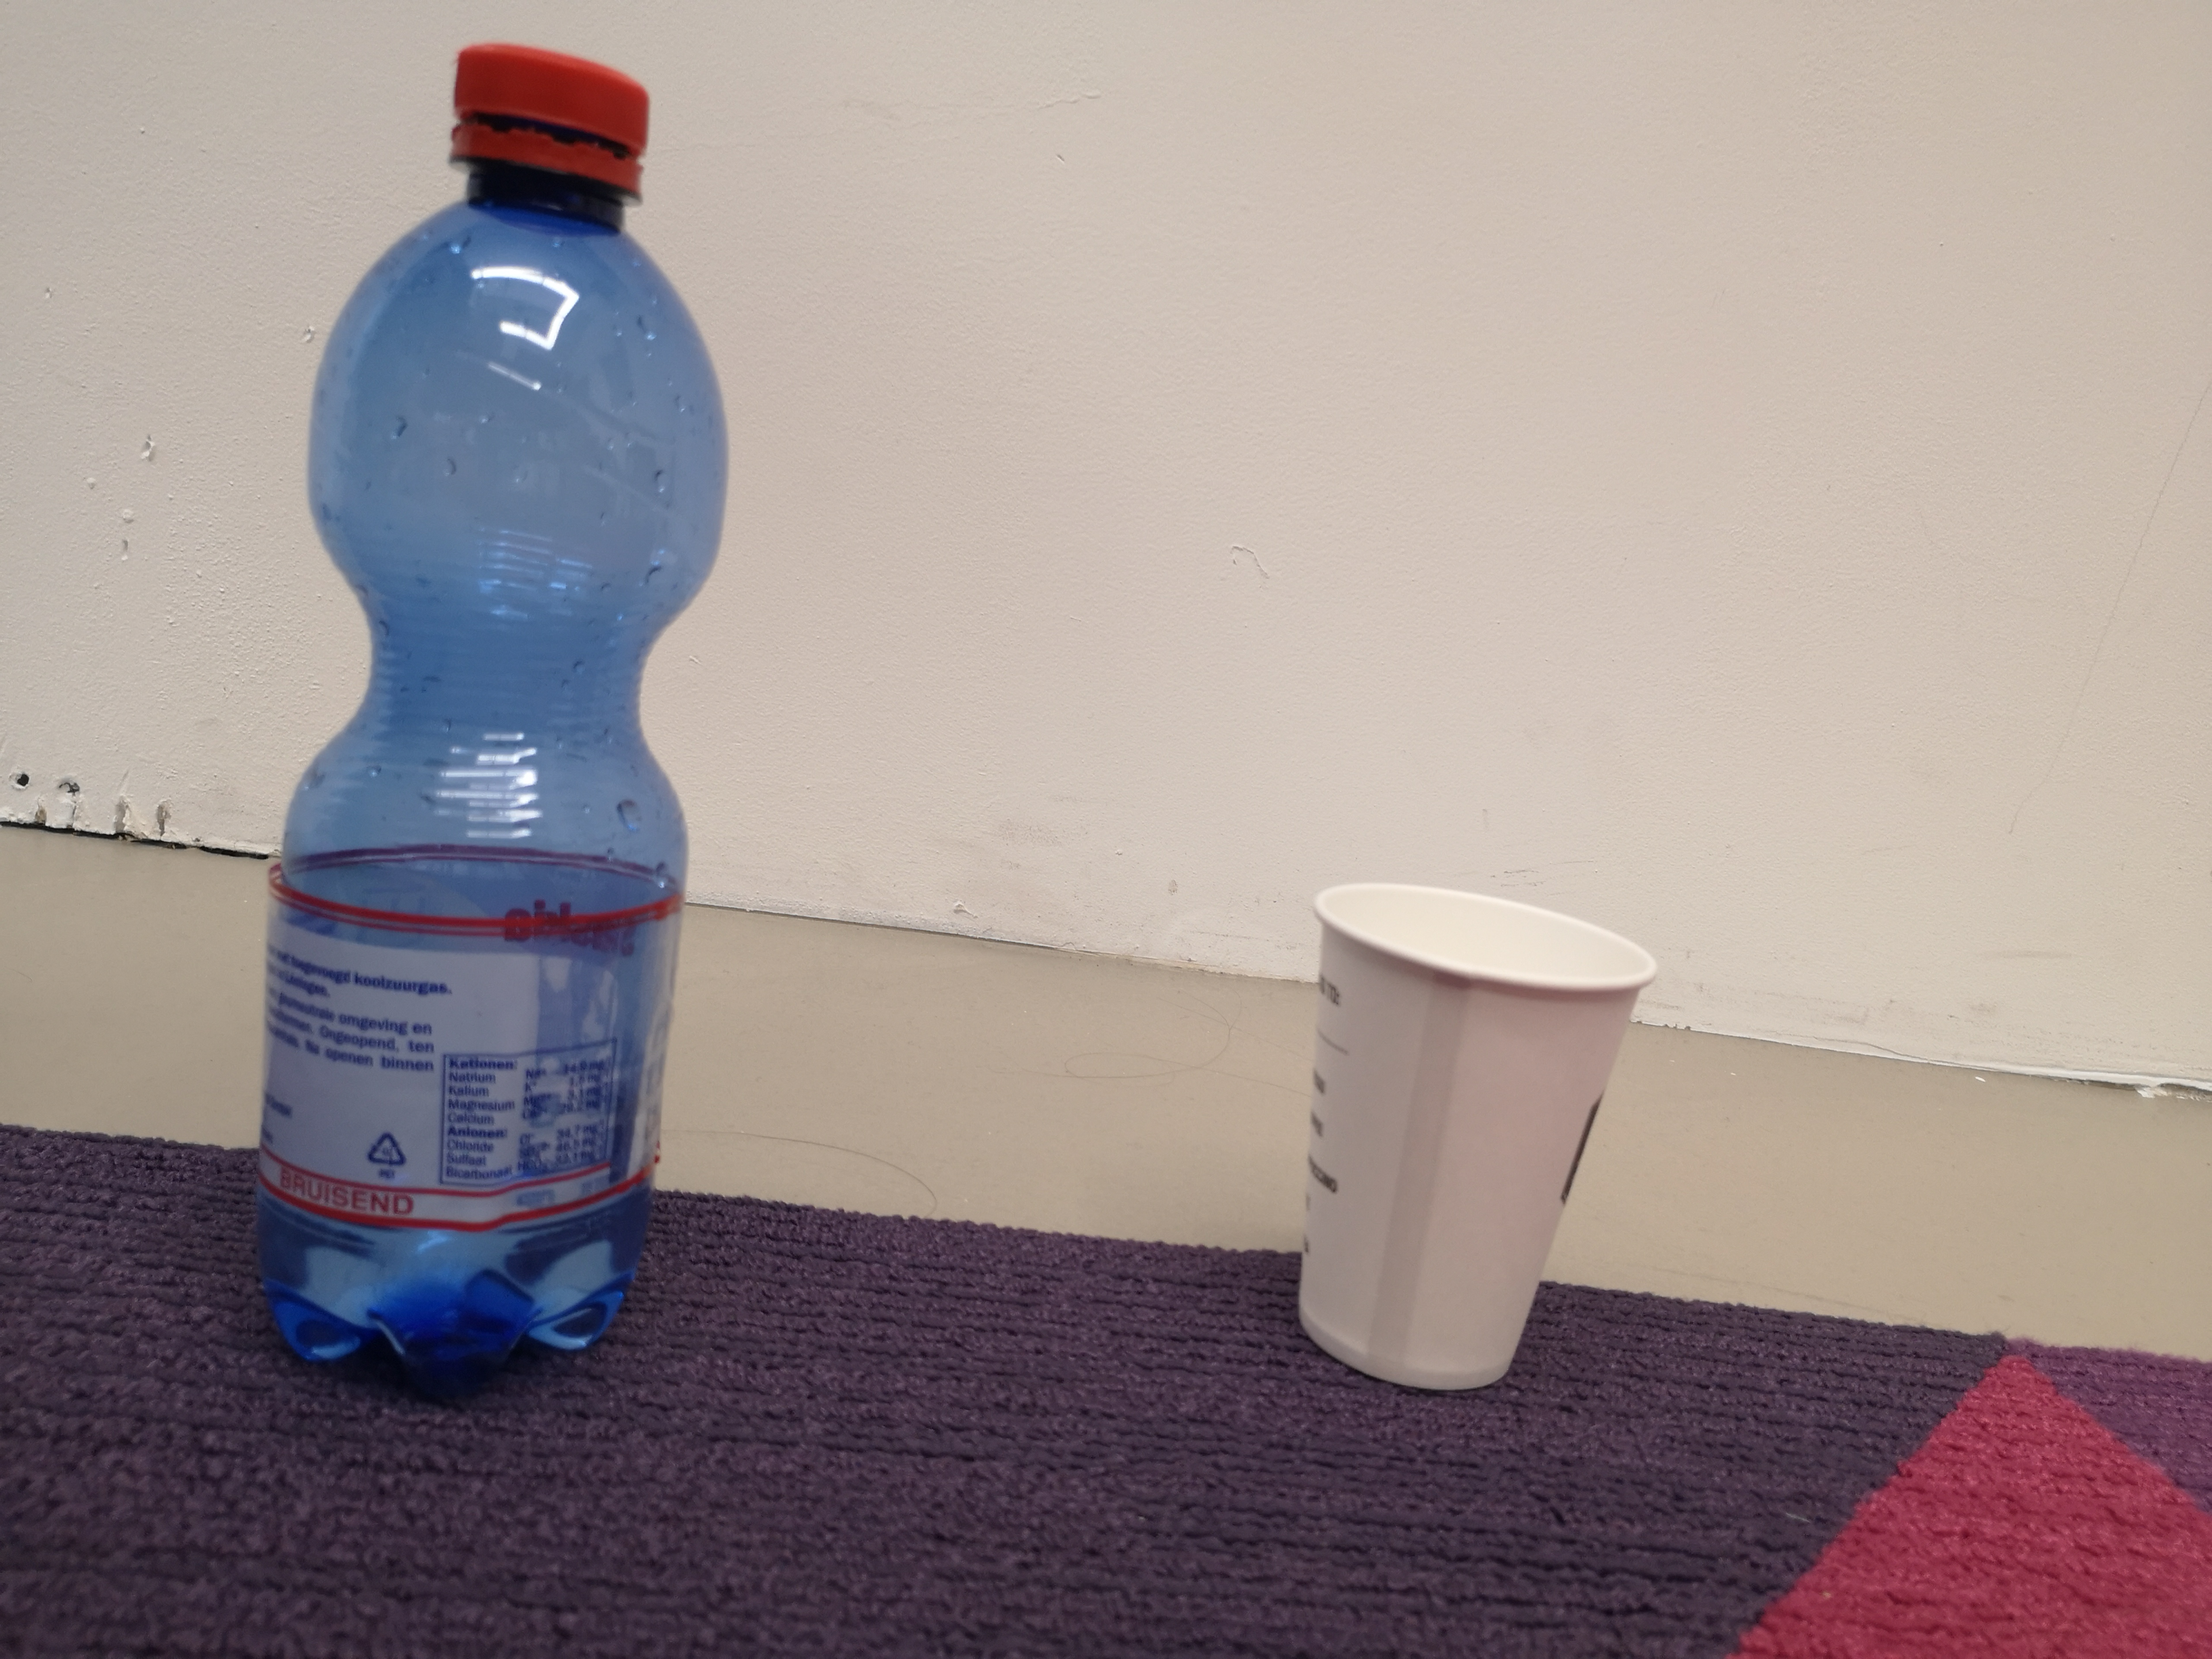cup: (1277, 864, 1681, 1413)
plastic_bottle: (230, 21, 765, 1399)
